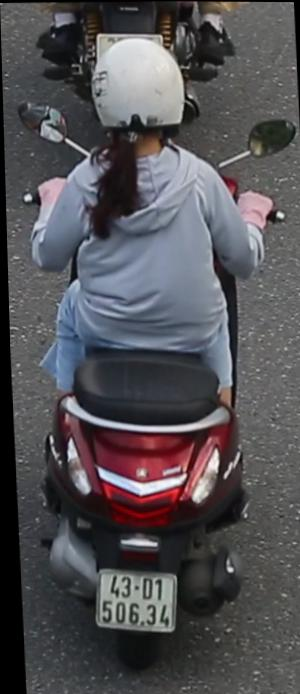LP: (84, 556, 179, 649)
helmet: (86, 36, 188, 158)
